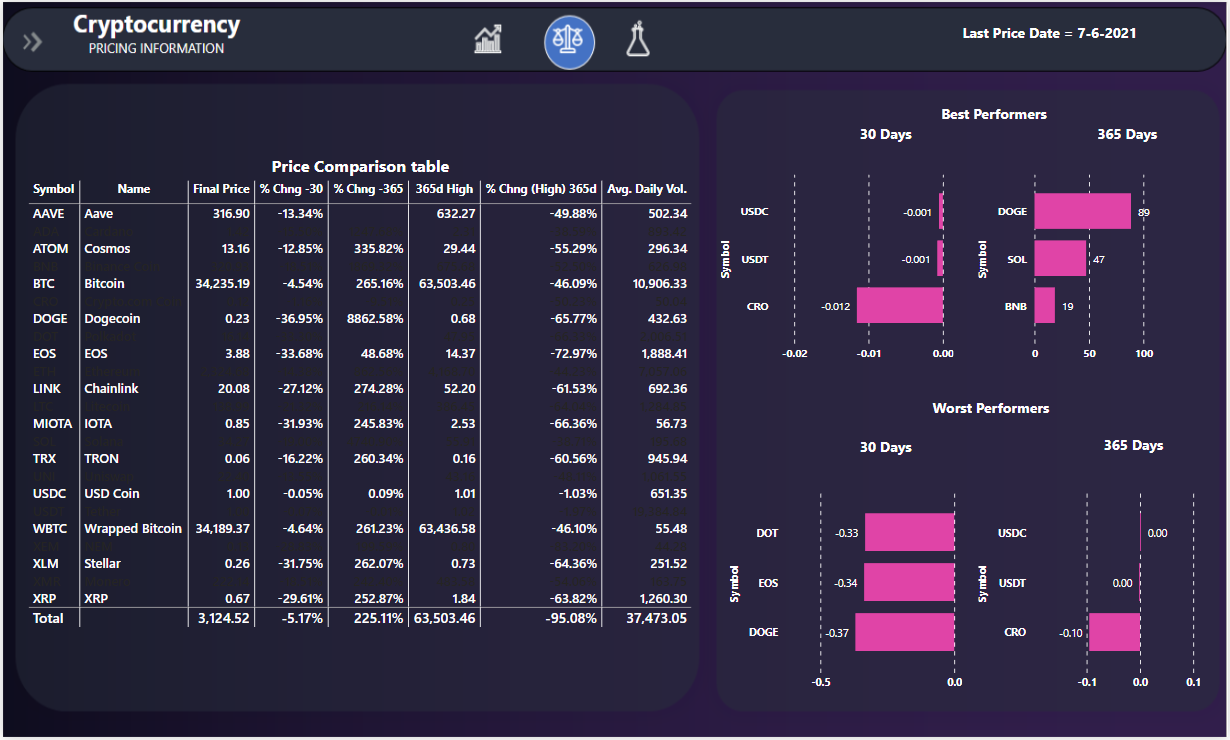

This screenshot's page, from the dashboard's own definition file:
{"tool":"powerbi","page":{"name":"Pricing","canvas":[1400,840],"ordinal":2},"visuals":[{"type":"shape","box":[11.4,18.6,47.1,50],"z":0},{"type":"shape","box":[528.6,8.6,67.1,70],"z":2},{"type":"shape","box":[700,18.6,54.3,50],"z":3},{"type":"tableEx","title":"Price Comparison table","fields":{"Values":["Crypto Symbols.Symbol","Crypto Symbols.Name","Key Measures.Close Price (Final)","Key Measures.% Change (-30 Days)","Key Measures.% Change (-365 Days)","Key Measures.High Price (-365 Days)","Key Measures.% Change (From 365 High)","Key Measures.Average Daily Volume"]},"box":[22.9,174.3,771.4,655.7],"z":4},{"type":"textbox","box":[1091.4,18.6,222.9,50],"z":5},{"type":"clusteredBarChart","fields":{"Category":["Crypto Symbols.Symbol"],"Y":["Key Measures.Top Performers (30D)"]},"box":[815.7,184.3,275.7,235.7],"z":6},{"type":"textbox","box":[1067.1,111.4,144.3,42.9],"z":7},{"type":"textbox","box":[1057.1,447.1,161.4,42.9],"z":8},{"type":"textbox","box":[974.3,134.3,78.6,40],"z":9},{"type":"clusteredBarChart","fields":{"Category":["Crypto Symbols.Symbol"],"Y":["Key Measures.Top Performers (365D)"]},"box":[1110,184.3,271.4,235.7],"z":10},{"type":"clusteredBarChart","fields":{"Category":["Crypto Symbols.Symbol"],"Y":["Key Measures.Worst Performers (30D)"]},"box":[825.7,548.6,275.7,247.1],"z":11},{"type":"clusteredBarChart","fields":{"Category":["Crypto Symbols.Symbol"],"Y":["Key Measures.Worst Performers (365D)"]},"box":[1110,548.6,271.4,247.1],"z":12},{"type":"textbox","box":[974.3,491.4,78.6,40],"z":13},{"type":"textbox","box":[1245.7,134.3,101.4,40],"z":14},{"type":"textbox","box":[1252.9,490,94.3,40],"z":15}]}

Visuals, with their boxes in screenshot pixels (x1, y1, x2, y2), scaled from the page's 1400x840 canvas onto the 1230x740 screenshot:
shape: pyautogui.locateOnScreen(10, 16, 51, 60)
shape: pyautogui.locateOnScreen(464, 8, 523, 69)
shape: pyautogui.locateOnScreen(615, 16, 663, 60)
"Price Comparison table" tableEx: pyautogui.locateOnScreen(20, 154, 698, 731)
textbox: pyautogui.locateOnScreen(959, 16, 1155, 60)
clusteredBarChart - Crypto Symbols.Symbol x Key Measures.Top Performers (30D): pyautogui.locateOnScreen(717, 162, 959, 370)
textbox: pyautogui.locateOnScreen(938, 98, 1064, 136)
textbox: pyautogui.locateOnScreen(929, 394, 1071, 432)
textbox: pyautogui.locateOnScreen(856, 118, 925, 154)
clusteredBarChart - Crypto Symbols.Symbol x Key Measures.Top Performers (365D): pyautogui.locateOnScreen(975, 162, 1214, 370)
clusteredBarChart - Crypto Symbols.Symbol x Key Measures.Worst Performers (30D): pyautogui.locateOnScreen(725, 483, 968, 701)
clusteredBarChart - Crypto Symbols.Symbol x Key Measures.Worst Performers (365D): pyautogui.locateOnScreen(975, 483, 1214, 701)
textbox: pyautogui.locateOnScreen(856, 433, 925, 468)
textbox: pyautogui.locateOnScreen(1094, 118, 1184, 154)
textbox: pyautogui.locateOnScreen(1101, 432, 1184, 467)
